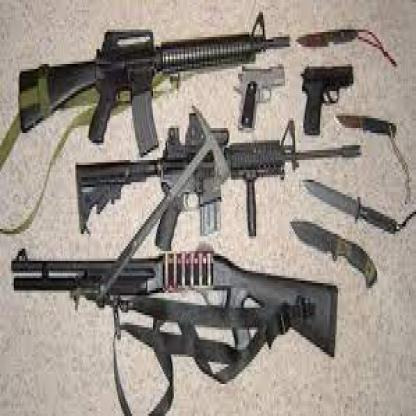Gun: (0, 10, 290, 160), (75, 112, 361, 250), (10, 246, 339, 362)
Knife: (290, 218, 378, 290), (302, 178, 397, 236), (336, 111, 398, 138), (295, 26, 358, 52)
Pistol: (298, 61, 354, 138), (233, 63, 287, 133)
